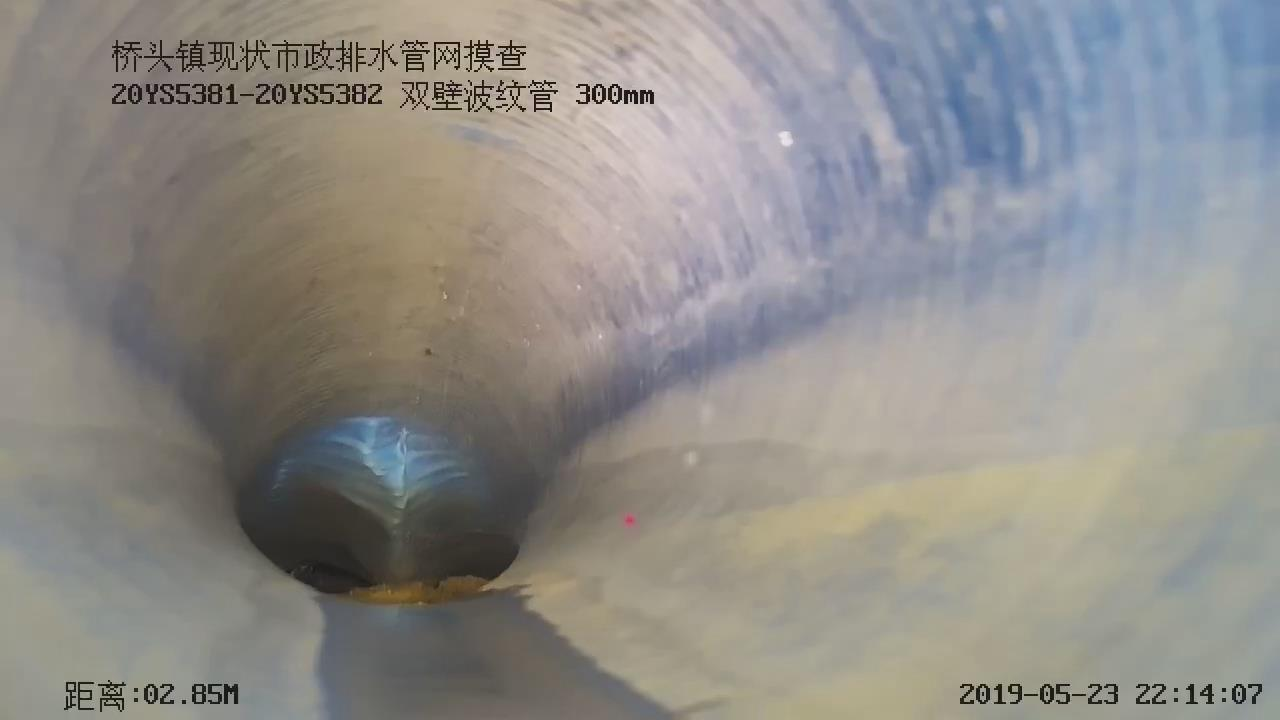BX: (261, 405, 518, 560)
